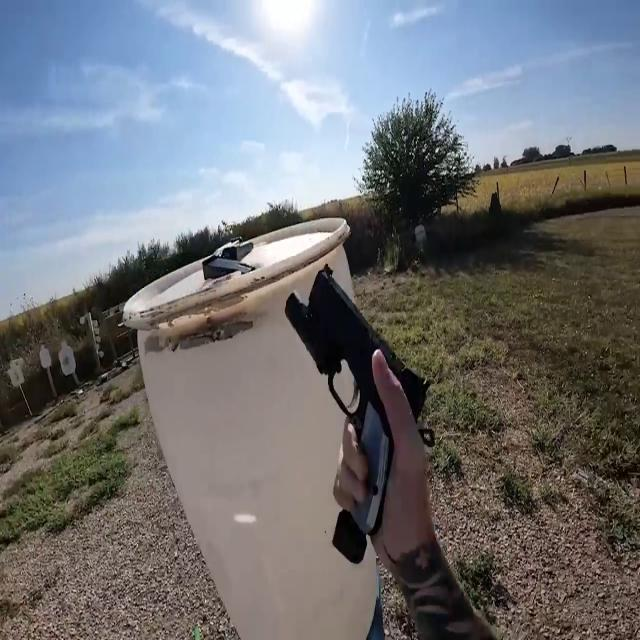Handgun: (280, 258, 434, 596)
